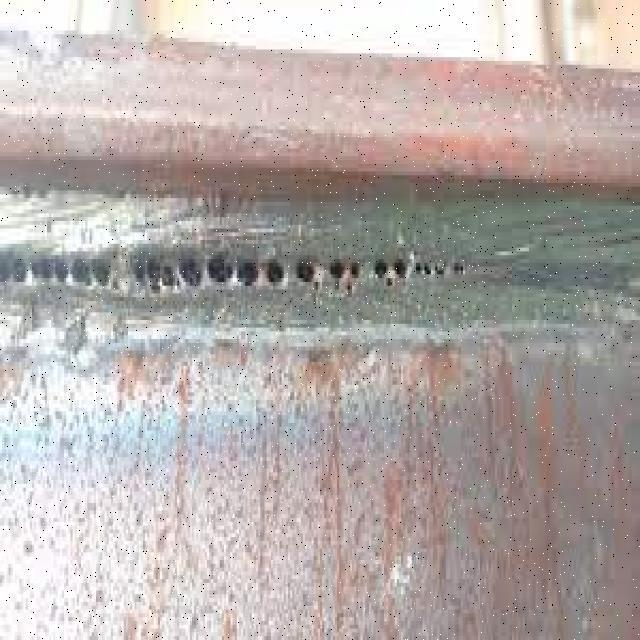Porosity: (3, 244, 363, 297), (368, 256, 472, 291)
